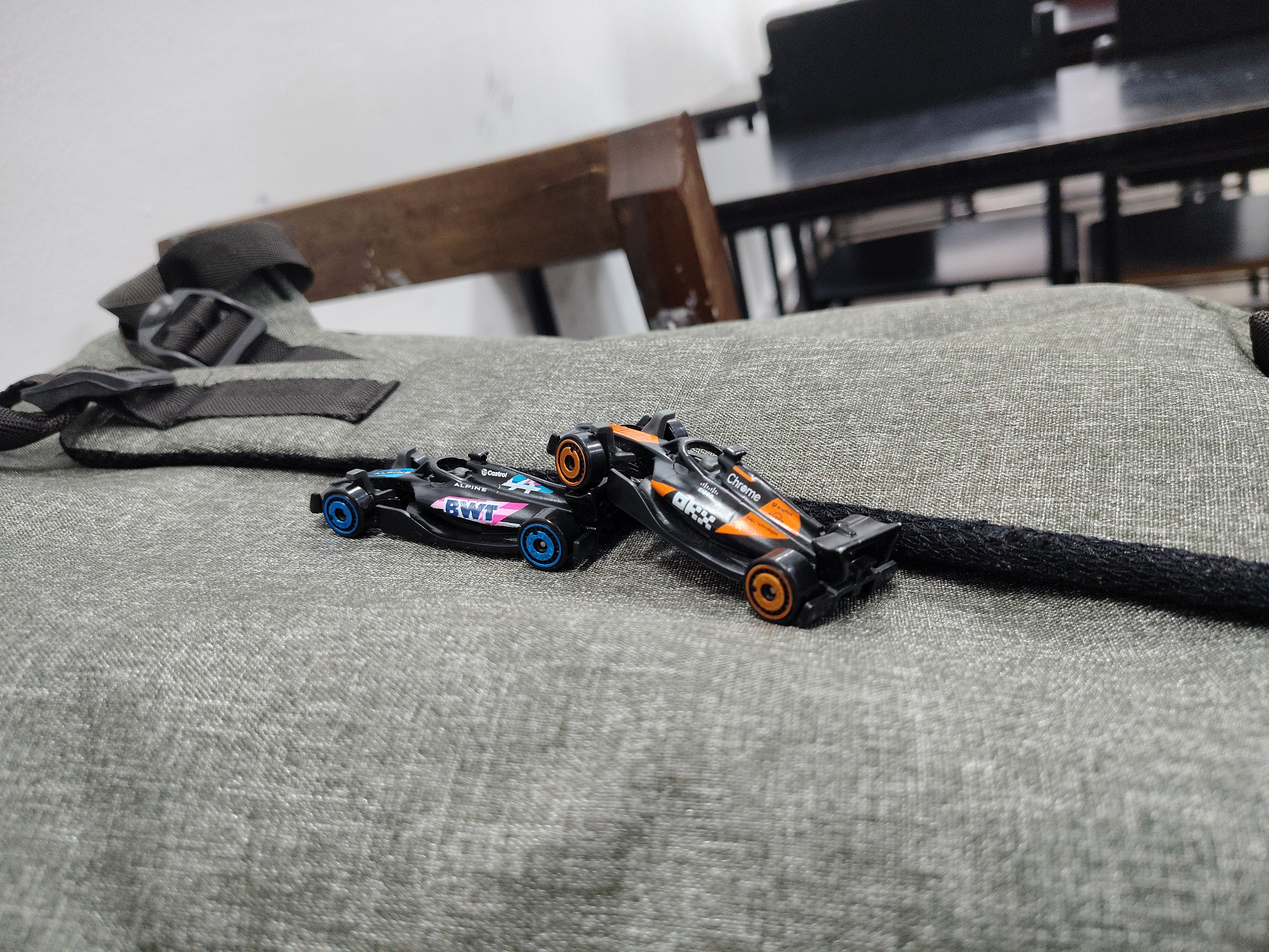Alpine A524: (279, 432, 635, 589)
McLaren MCL40: (508, 373, 948, 621)
